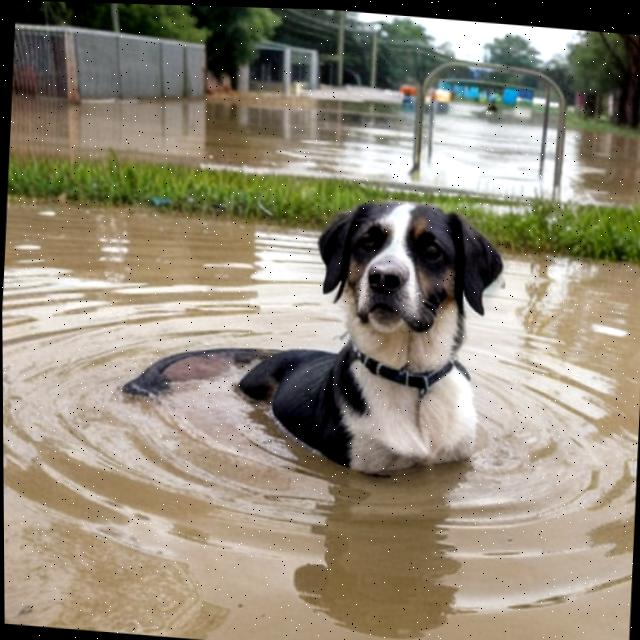dog: (112, 164, 524, 501)
